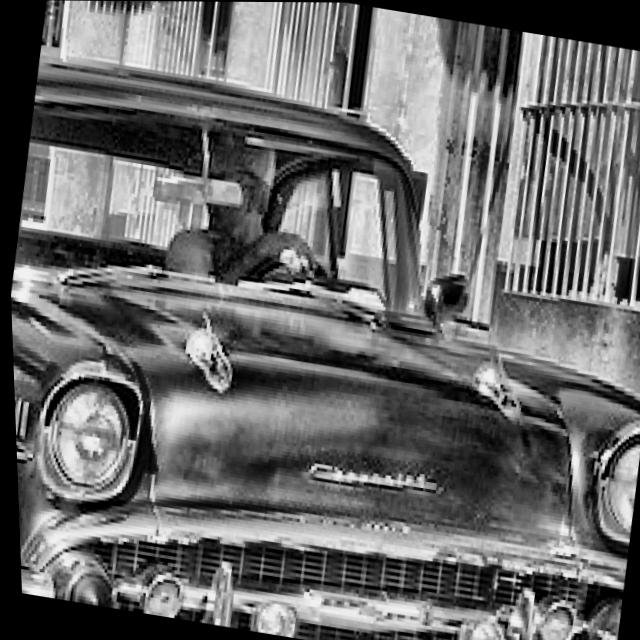light_vehicle: (1, 45, 640, 640)
